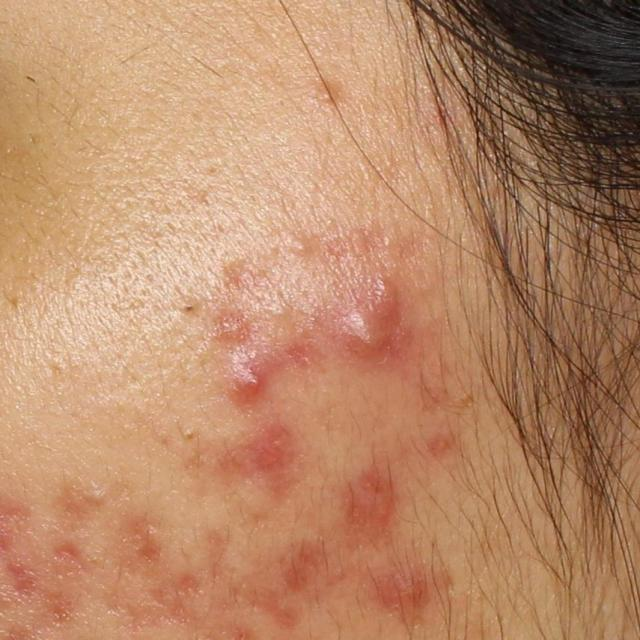nodule: (333, 277, 401, 361)
